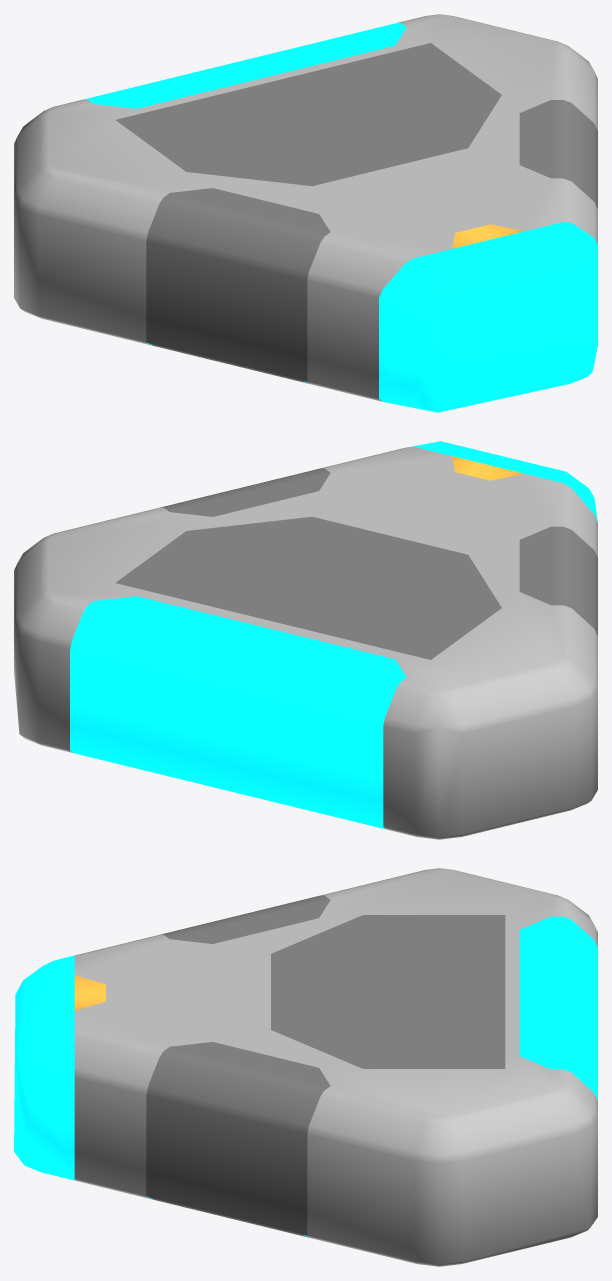
The model's file is FUT0110004.fbx.
The picture shows the model from 3 angles, top to bottom: view 1: azimuth 30°, elevation 25°; view 2: azimuth 150°, elevation 25°; view 3: azimuth 270°, elevation 25°; orthographic projection.
Visible parts, largest first — view 1: smFUT0110004; view 2: smFUT0110004; view 3: smFUT0110004.
Part boxes in pixels (x1,y1,x2,y2): smFUT0110004: (14, 14, 597, 412); smFUT0110004: (14, 441, 597, 839); smFUT0110004: (14, 868, 597, 1266).
Bounding box in the file's own units: 104 × 24.02 × 92.13.
Materials: 1 (1 with a texture image).
